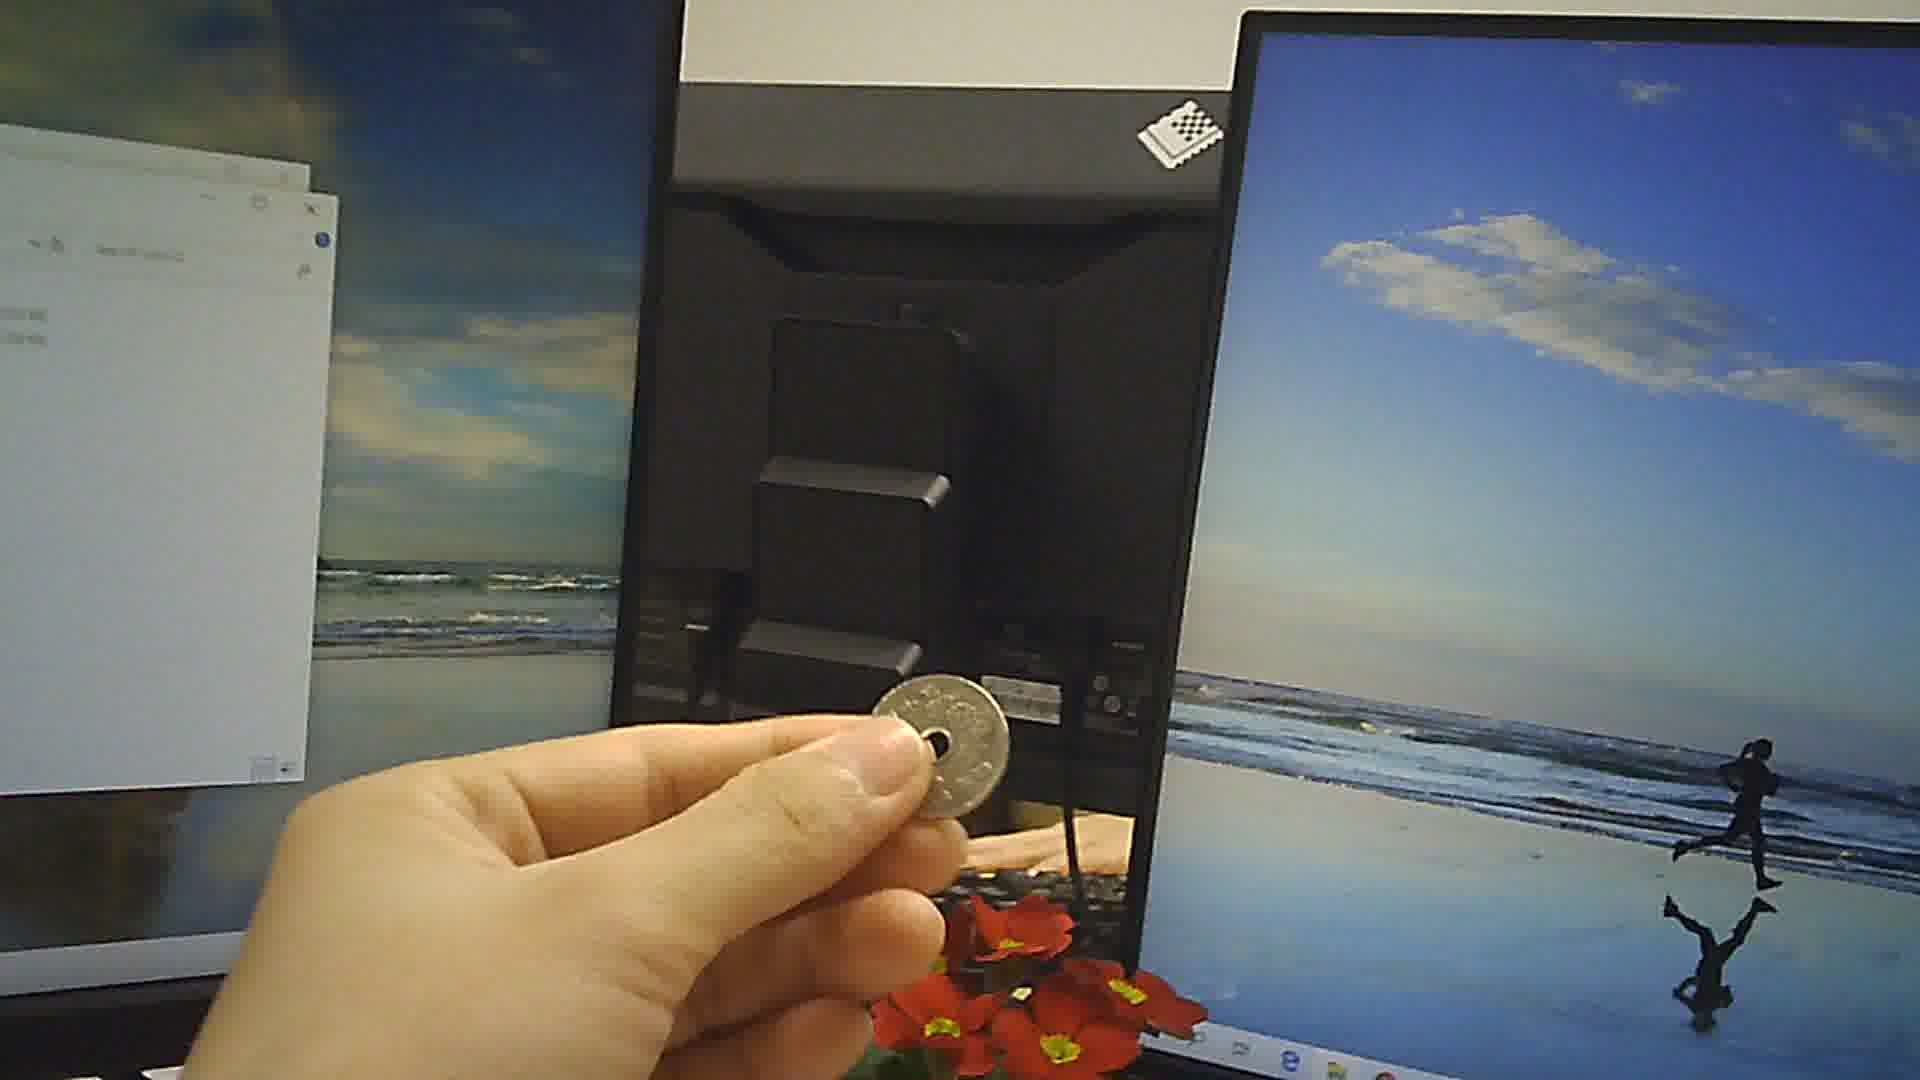50 Yen: (857, 666, 1009, 825)
